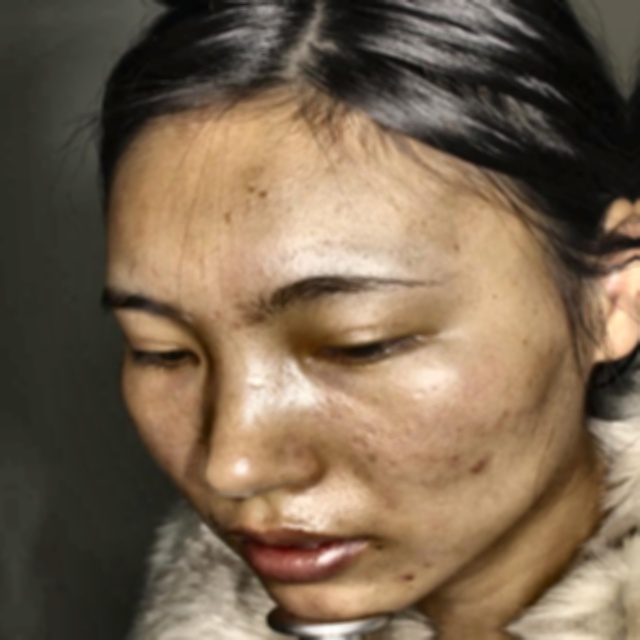comedone: (463, 445, 500, 482)
